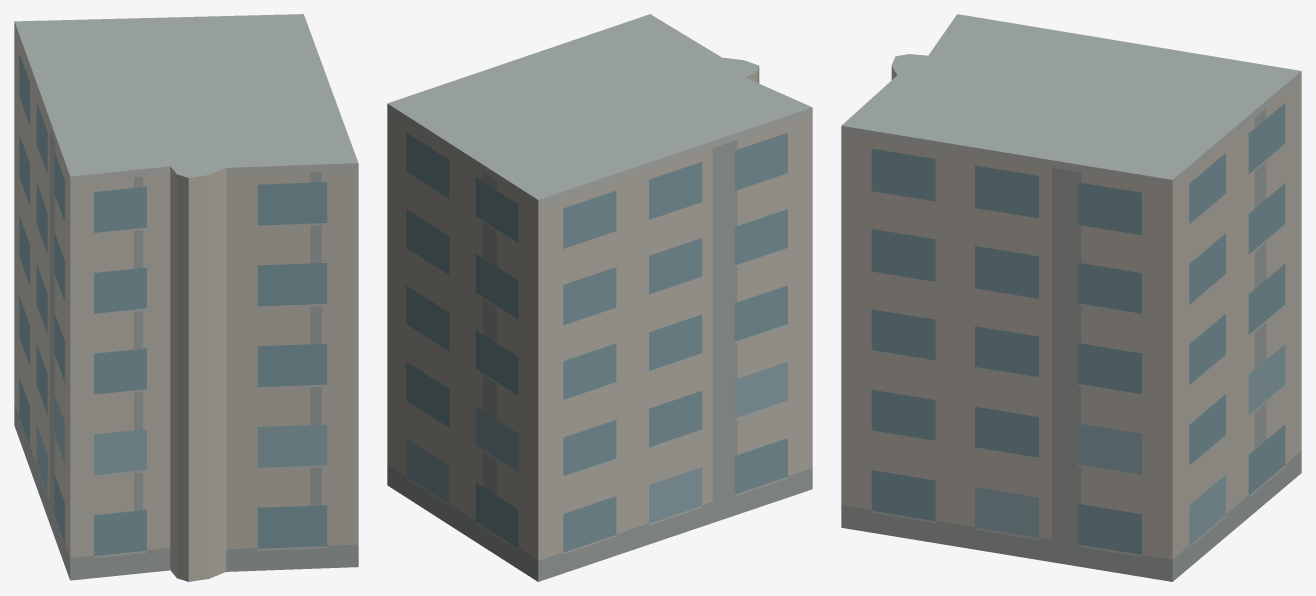
The model's file is survey-upis-32939209.glb.
3 renders of one model, left to right at view 1: azimuth 30°, elevation 25°; view 2: azimuth 150°, elevation 25°; view 3: azimuth 270°, elevation 25°, orthographic. The views are drawn at different scales.
Visible parts, largest first — view 1: survey-upis-32939209.tmp; view 2: survey-upis-32939209.tmp; view 3: survey-upis-32939209.tmp.
Boxes of the visible parts, box(x1,y1,x2,y2) form: survey-upis-32939209.tmp: box(14, 14, 358, 581); survey-upis-32939209.tmp: box(387, 14, 812, 581); survey-upis-32939209.tmp: box(841, 14, 1301, 581).
Bounding box in the file's own units: 11.96 × 13.5 × 14.02.
